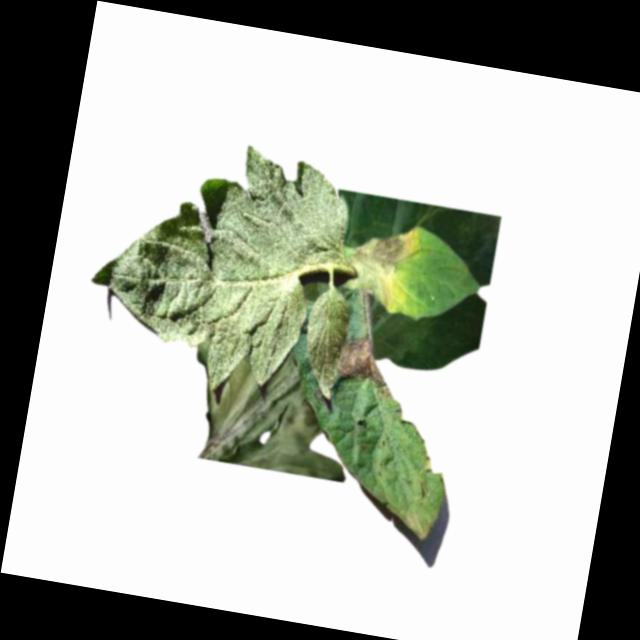Late_blight: (178, 340, 365, 482), (344, 218, 422, 312), (330, 329, 394, 388), (398, 510, 434, 539)
healthy: (77, 124, 372, 408)
